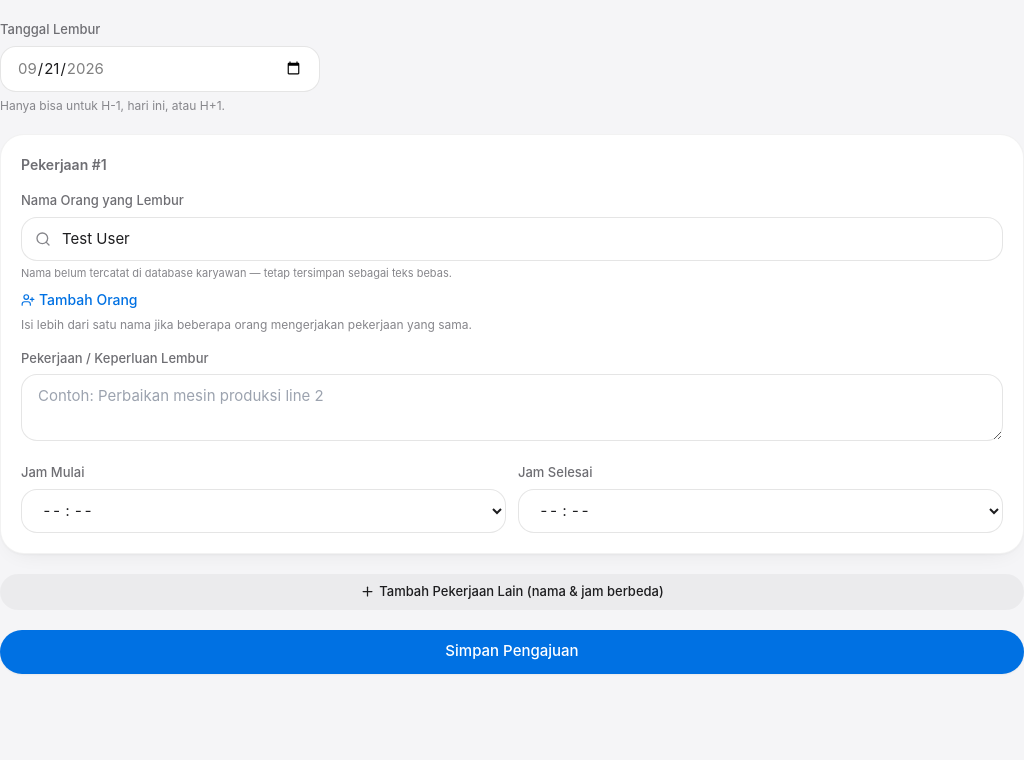
Scenario: OvertimeForm › rejects a block where jam mulai and jam selesai are the same, without discarding input
In the text box with placeholder "Contoh: Perbaikan mesin produksi line 2": (512, 408) [21,374,1003,441], type "Cek panel listrik"
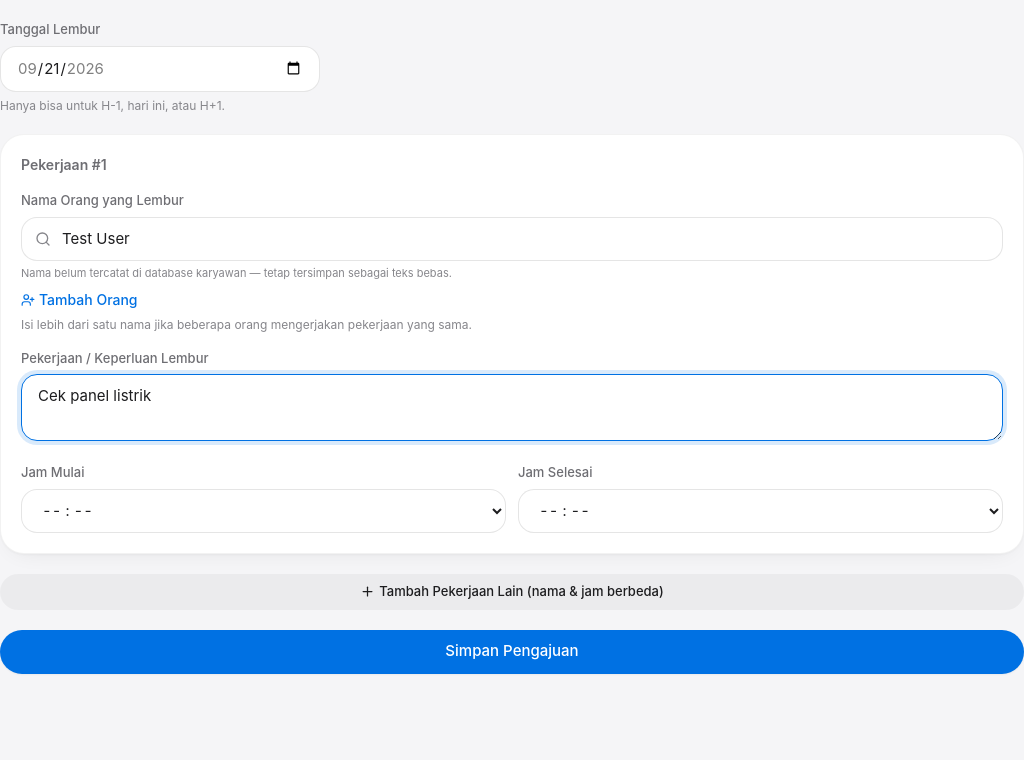
Select "08:00" in the dropdown named "Jam" below "Jam Mulai": (264, 510) [21,488,506,532]
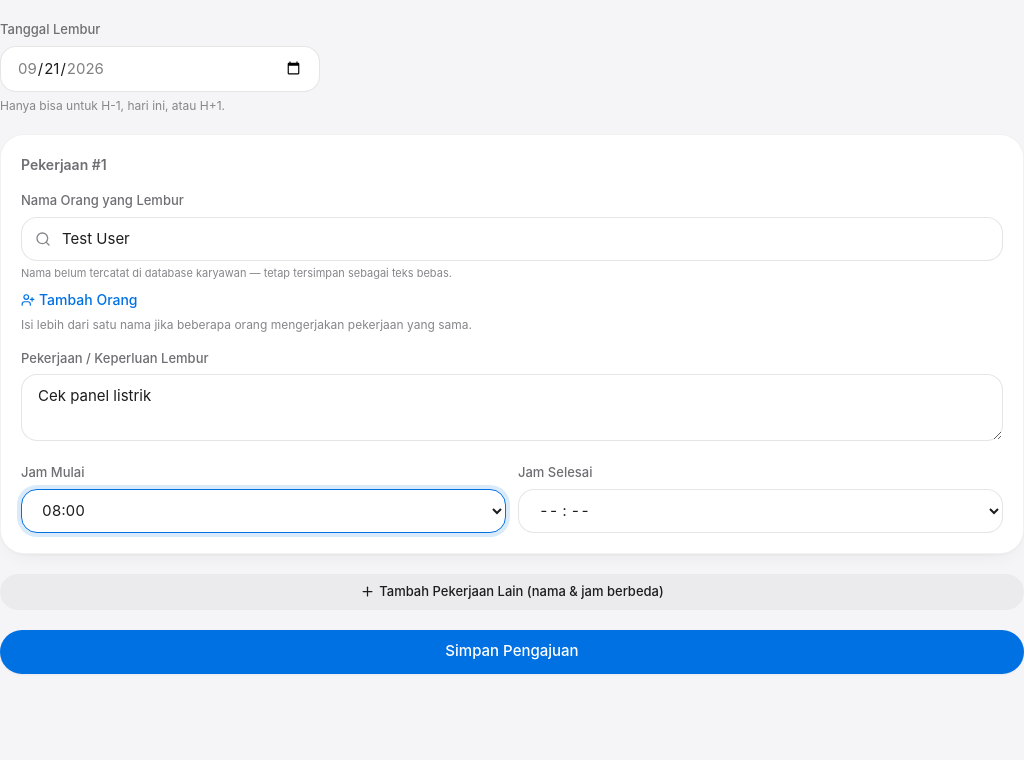
Select "08:00" in the dropdown named "Jam" below "Jam Selesai": (760, 510) [518,488,1003,532]
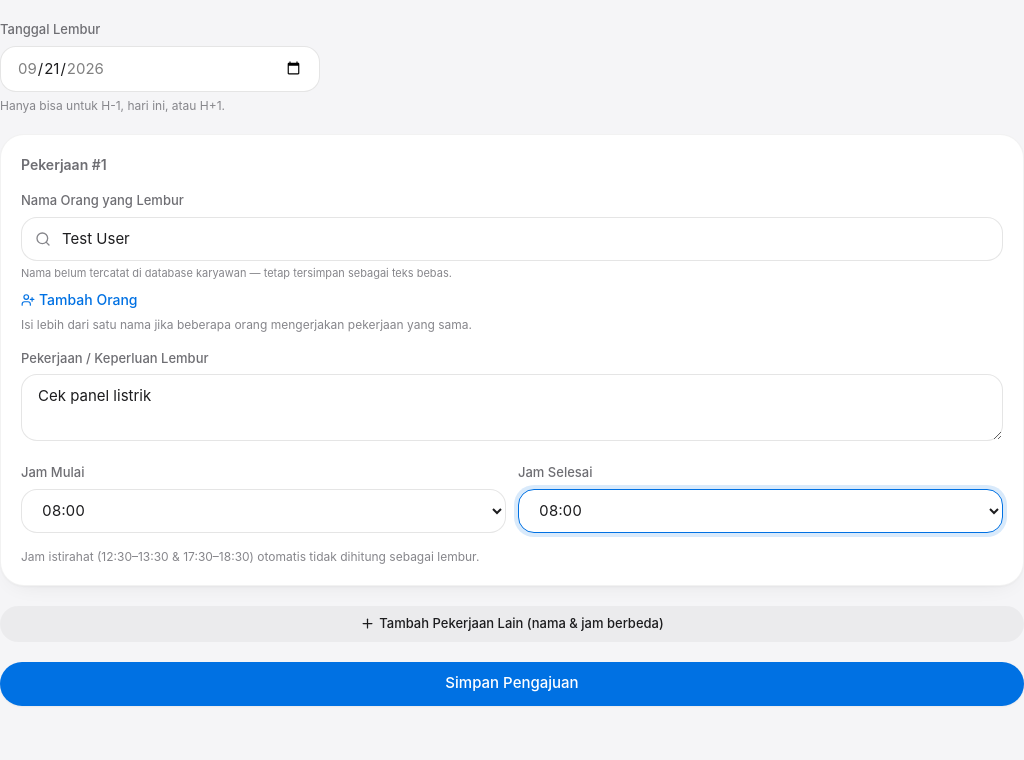
Click the button "Simpan Pengajuan": (512, 684) [0,662,1023,706]
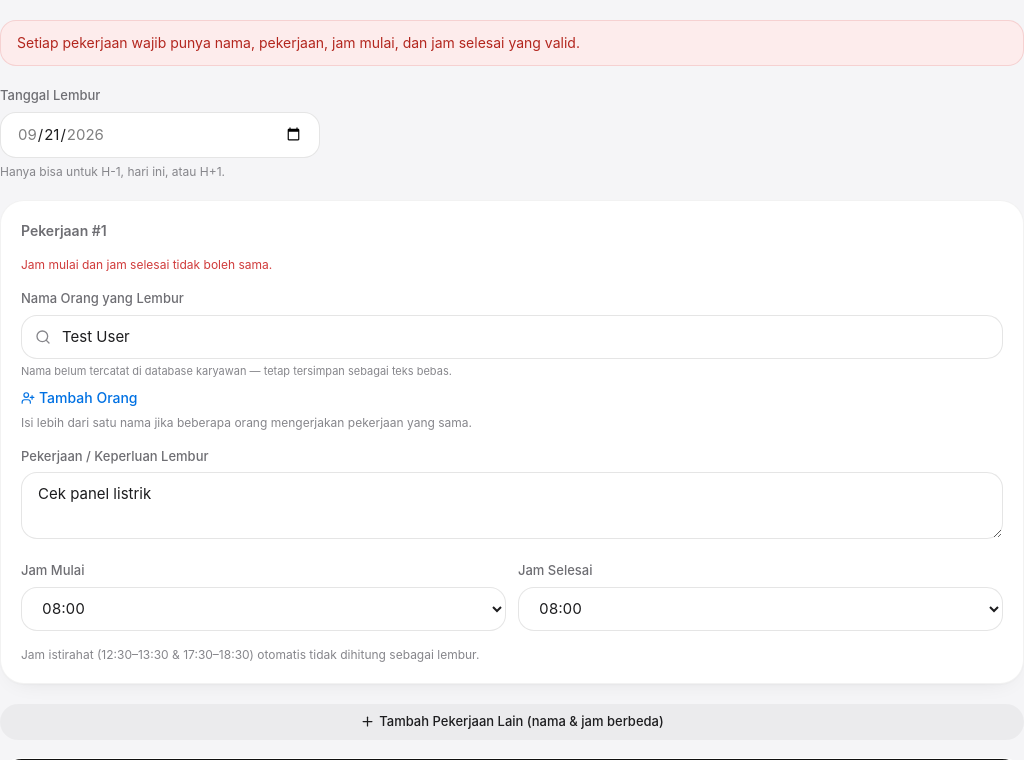
Expected: the text "Jam mulai dan jam selesai tidak boleh sama." is shown, [21,257,272,272]
